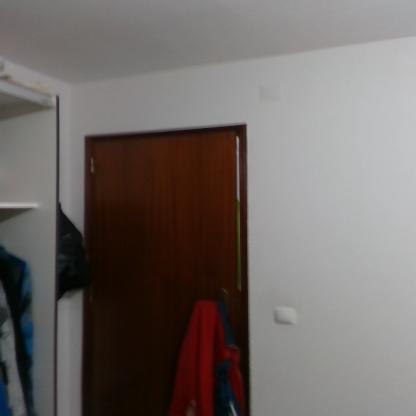closed: (70, 110, 264, 404)
